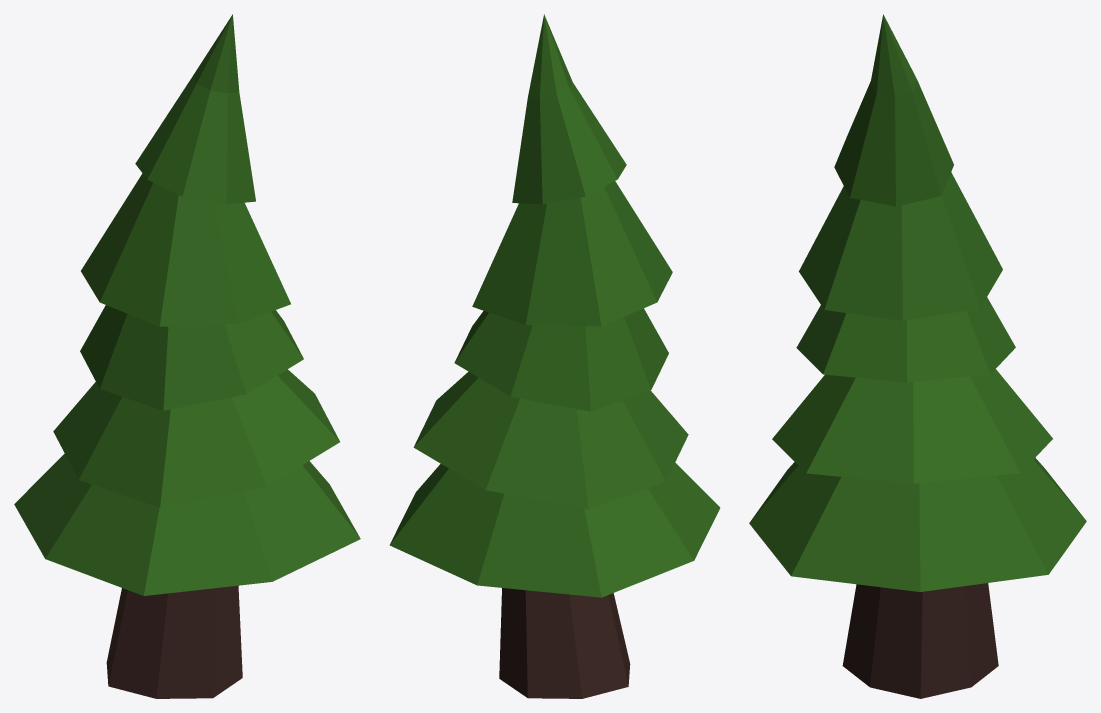
The model's file is Tree_2.glb.
3 renders of one model, left to right at view 1: azimuth 30°, elevation 25°; view 2: azimuth 150°, elevation 25°; view 3: azimuth 270°, elevation 25°, orthographic. The views are drawn at different scales.
Parts seen in each view (by area): view 1: Tree_2; view 2: Tree_2; view 3: Tree_2.
Boxes of the visible parts, x1,y1,x2,y2 form: Tree_2: (14,14,360,698); Tree_2: (389,14,720,698); Tree_2: (749,14,1086,698).
Size of what is drawn, in the model's own units: 1.84 by 4.05 by 1.85.
1 material, 1 textured.
